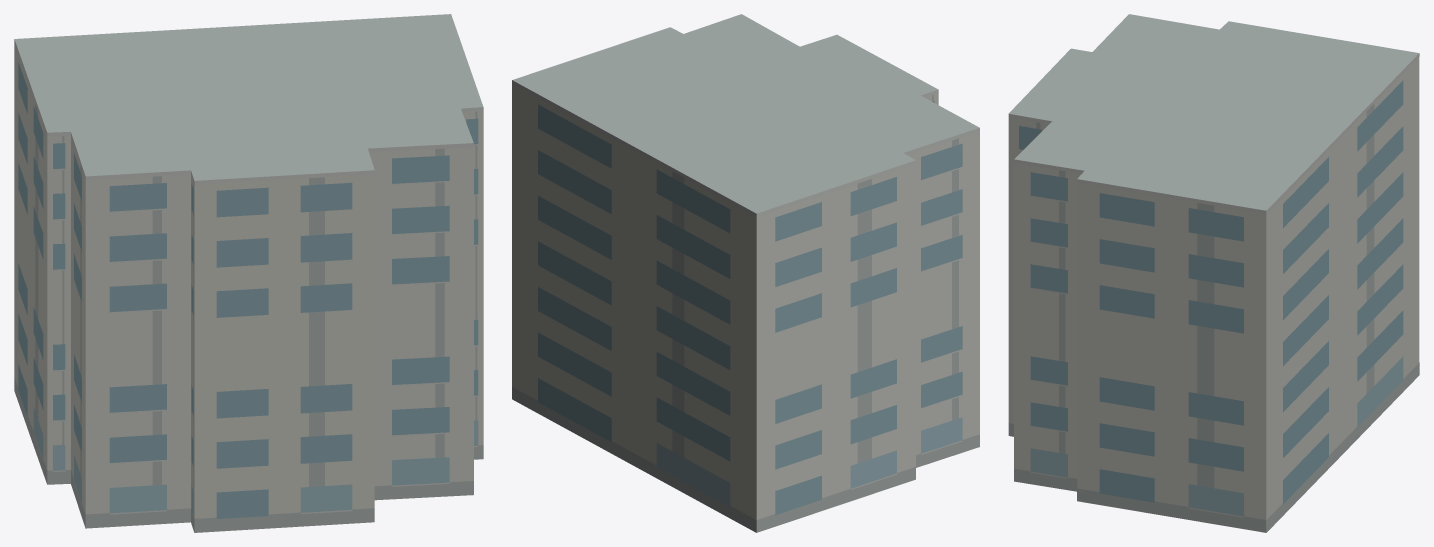
Rendered from survey-upis-32975077.glb.
The picture shows the model from 3 angles, left to right: view 1: azimuth 30°, elevation 25°; view 2: azimuth 150°, elevation 25°; view 3: azimuth 270°, elevation 25°; orthographic projection. The views are drawn at different scales.
Visible parts, largest first — view 1: survey-upis-32975077.tmp; view 2: survey-upis-32975077.tmp; view 3: survey-upis-32975077.tmp.
Boxes of the visible parts, left/top/right/bottom form: survey-upis-32975077.tmp: left=14, top=14, right=483, bottom=532; survey-upis-32975077.tmp: left=512, top=14, right=979, bottom=532; survey-upis-32975077.tmp: left=1008, top=14, right=1419, bottom=532.
Size of the model in its own units: 27.91 by 21.3 by 24.63.
